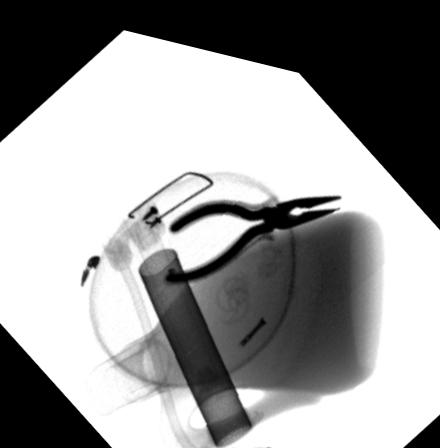Pliers: (163, 176, 344, 276)
